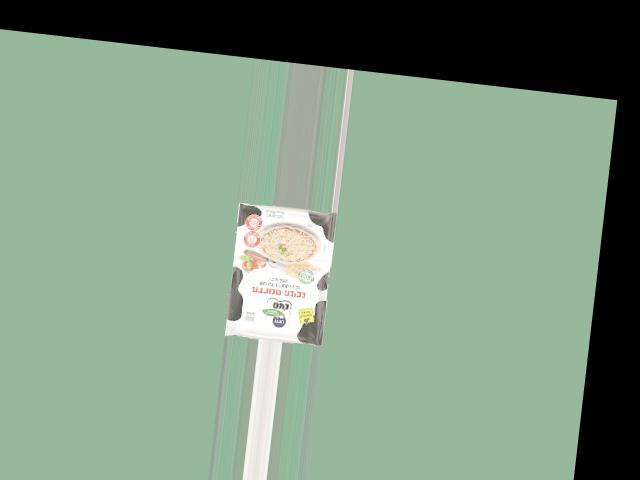cheese: (208, 206, 339, 336)
